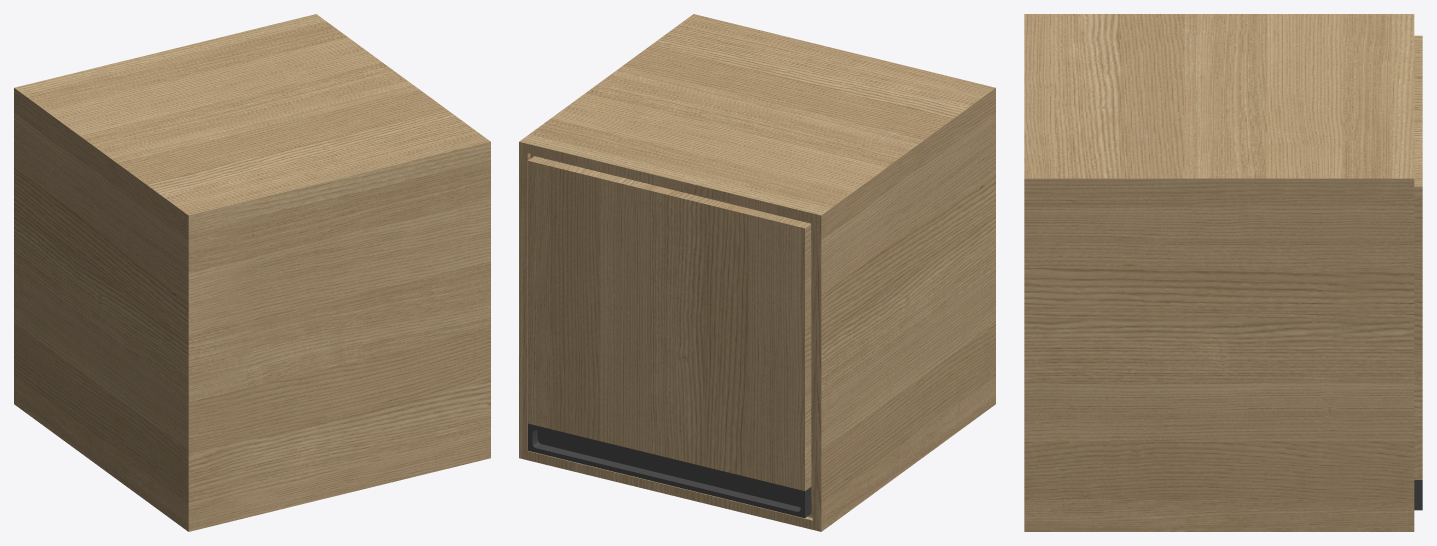
File: Eden_storage.fbx
3 views of the same model, side by side, from view 1: azimuth 30°, elevation 25°; view 2: azimuth 150°, elevation 25°; view 3: azimuth 270°, elevation 25° (orthographic). The views are drawn at different scales.
Parts seen in each view (by area): view 1: pCube8; view 2: pCube8; view 3: pCube8.
Boxes of the visible parts, x1,y1,x2,y2 form: pCube8: (14, 14, 490, 531); pCube8: (519, 14, 995, 531); pCube8: (1024, 14, 1422, 531).
Bounding box in the file's own units: 0.0174 × 0.0174 × 0.0177.
2 materials, 1 textured.
